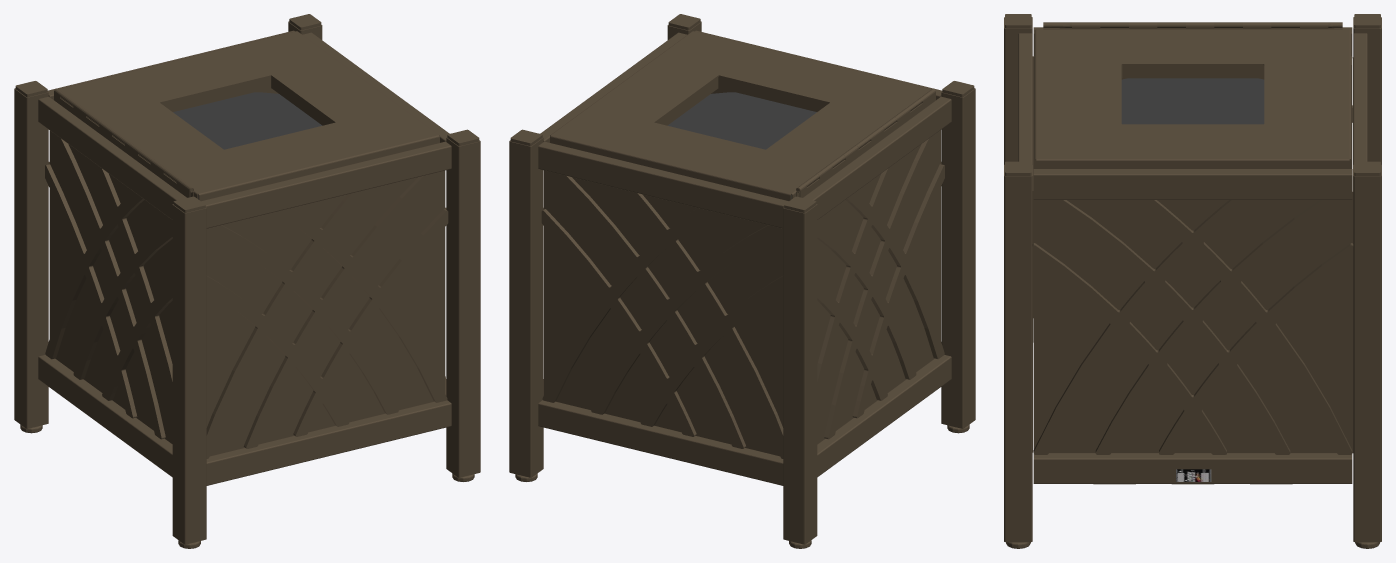
3 renders of one model, left to right at view 1: azimuth 30°, elevation 25°; view 2: azimuth 150°, elevation 25°; view 3: azimuth 270°, elevation 25°, orthographic. The views are drawn at different scales.
Parts seen in each view (by area): view 1: mesh1.004_mesh1-geometry, mesh37.002_mesh37-geometry, mesh98.002_mesh98-geometry, mesh34.002_mesh34-geometry, mesh33.002_mesh33-geometry, mesh35.002_mesh35-geometry, mesh29.002_mesh29-geometry, mesh30.002_mesh30-geometry, mesh106.002_mesh106-geometry, mesh25.002_mesh25-geometry, mesh26.002_mesh26-geometry, mesh12.002_mesh12-geometry (+2 smaller); view 2: mesh1.003_mesh1-geometry, mesh37.002_mesh37-geometry, mesh98.002_mesh98-geometry, mesh1.004_mesh1-geometry, mesh35.002_mesh35-geometry, mesh36.002_mesh36-geometry, mesh34.002_mesh34-geometry, mesh31.002_mesh31-geometry, mesh32.002_mesh32-geometry, mesh106.002_mesh106-geometry, mesh25.002_mesh25-geometry, mesh26.002_mesh26-geometry (+4 smaller); view 3: mesh1.003_mesh1-geometry, mesh98.002_mesh98-geometry, mesh37.002_mesh37-geometry, mesh36.002_mesh36-geometry, mesh33.002_mesh33-geometry, mesh27.002_mesh27-geometry, mesh28.002_mesh28-geometry, mesh106.002_mesh106-geometry, mesh12.002_mesh12-geometry, mesh35.002_mesh35-geometry, mesh34.002_mesh34-geometry, mesh96.002_mesh96-geometry (+4 smaller).
Boxes of the visible parts, left/top/right/bottom form: mesh1.004_mesh1-geometry: left=49, top=130, right=444, bottom=456; mesh37.002_mesh37-geometry: left=45, top=131, right=448, bottom=458; mesh98.002_mesh98-geometry: left=58, top=31, right=439, bottom=200; mesh34.002_mesh34-geometry: left=172, top=204, right=206, bottom=544; mesh33.002_mesh33-geometry: left=446, top=137, right=480, bottom=477; mesh35.002_mesh35-geometry: left=14, top=88, right=48, bottom=428; mesh29.002_mesh29-geometry: left=201, top=141, right=451, bottom=228; mesh30.002_mesh30-geometry: left=206, top=400, right=451, bottom=485; mesh106.002_mesh106-geometry: left=173, top=92, right=322, bottom=199; mesh25.002_mesh25-geometry: left=38, top=96, right=186, bottom=219; mesh26.002_mesh26-geometry: left=38, top=355, right=172, bottom=477; mesh12.002_mesh12-geometry: left=54, top=88, right=193, bottom=197; mesh1.003_mesh1-geometry: left=544, top=170, right=783, bottom=456; mesh37.002_mesh37-geometry: left=541, top=131, right=944, bottom=458; mesh98.002_mesh98-geometry: left=550, top=31, right=931, bottom=200; mesh1.004_mesh1-geometry: left=711, top=76, right=940, bottom=443; mesh35.002_mesh35-geometry: left=783, top=204, right=817, bottom=544; mesh36.002_mesh36-geometry: left=509, top=137, right=543, bottom=477; mesh34.002_mesh34-geometry: left=941, top=88, right=975, bottom=428; mesh31.002_mesh31-geometry: left=538, top=141, right=788, bottom=228; mesh32.002_mesh32-geometry: left=538, top=400, right=783, bottom=485; mesh106.002_mesh106-geometry: left=667, top=92, right=816, bottom=199; mesh25.002_mesh25-geometry: left=803, top=96, right=951, bottom=219; mesh26.002_mesh26-geometry: left=817, top=355, right=951, bottom=477; mesh1.003_mesh1-geometry: left=1034, top=57, right=1353, bottom=453; mesh98.002_mesh98-geometry: left=1034, top=29, right=1351, bottom=168; mesh37.002_mesh37-geometry: left=1032, top=105, right=1353, bottom=454; mesh36.002_mesh36-geometry: left=1353, top=164, right=1381, bottom=542; mesh33.002_mesh33-geometry: left=1004, top=164, right=1032, bottom=542; mesh27.002_mesh27-geometry: left=1033, top=169, right=1352, bottom=199; mesh28.002_mesh28-geometry: left=1033, top=453, right=1352, bottom=483; mesh106.002_mesh106-geometry: left=1121, top=78, right=1264, bottom=124; mesh12.002_mesh12-geometry: left=1043, top=22, right=1342, bottom=29; mesh35.002_mesh35-geometry: left=1353, top=17, right=1381, bottom=164; mesh34.002_mesh34-geometry: left=1004, top=17, right=1032, bottom=164; mesh96.002_mesh96-geometry: left=1121, top=65, right=1263, bottom=78.
Bounding box in the file's own units: 0.5556 × 0.6186 × 0.5556.
